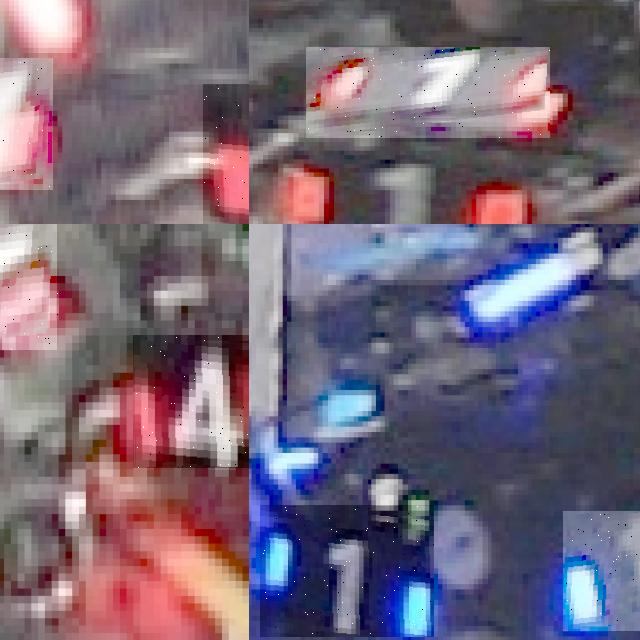B1: (260, 505, 434, 637), (562, 510, 640, 631)
R1: (306, 48, 550, 140), (263, 152, 532, 224)
R4: (133, 335, 249, 469), (0, 224, 58, 350), (0, 58, 52, 189), (203, 84, 249, 224)
